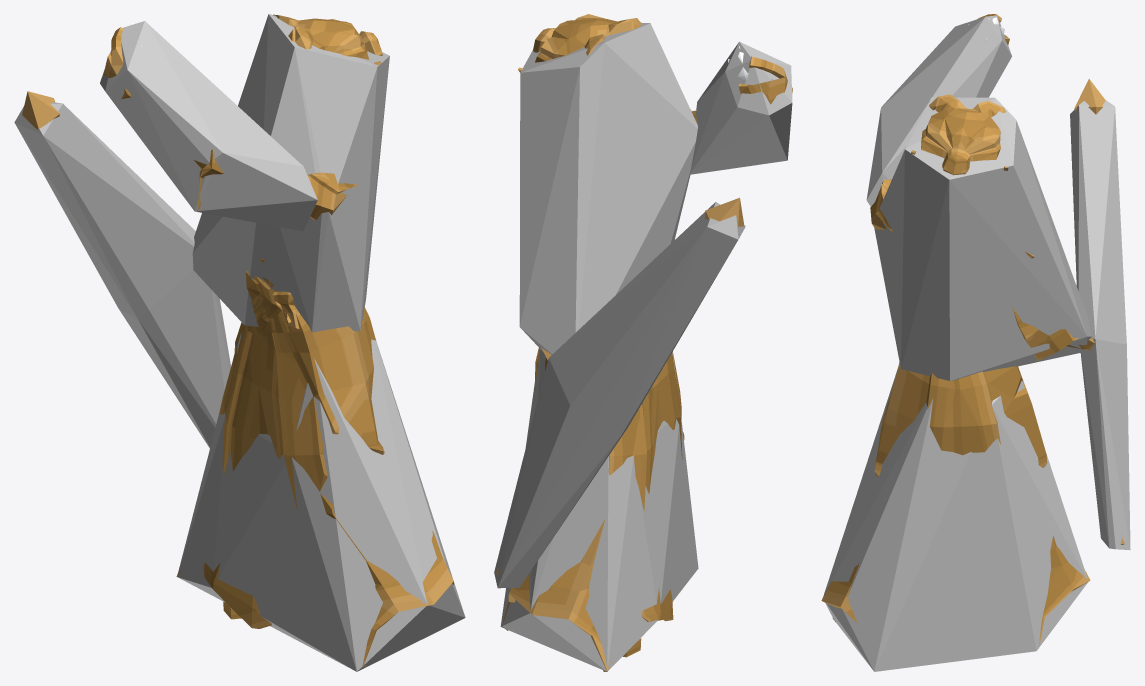
The model's file is SM_Prop_Statue_05.fbx.
3 views of the same model, side by side, from view 1: azimuth 30°, elevation 25°; view 2: azimuth 150°, elevation 25°; view 3: azimuth 270°, elevation 25° (orthographic). The views are drawn at different scales.
Parts seen in each view (by area): view 1: SM_Prop_Statue_05_ConvexHulls, SM_Prop_Statue_05; view 2: SM_Prop_Statue_05_ConvexHulls, SM_Prop_Statue_05; view 3: SM_Prop_Statue_05_ConvexHulls, SM_Prop_Statue_05.
Boxes of the visible parts, <box> form: SM_Prop_Statue_05_ConvexHulls: <box>14,14,465,671</box>; SM_Prop_Statue_05: <box>22,14,453,666</box>; SM_Prop_Statue_05_ConvexHulls: <box>494,22,792,671</box>; SM_Prop_Statue_05: <box>496,14,792,671</box>; SM_Prop_Statue_05_ConvexHulls: <box>823,15,1130,671</box>; SM_Prop_Statue_05: <box>821,14,1124,646</box>.
Bounding box in the file's own units: 102 × 95.83 × 191.
Materials: 2 (1 with a texture image).
